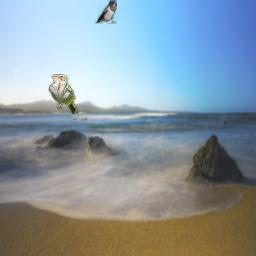Sparrow: (48, 74, 78, 114)
Swallow: (95, 0, 117, 24)
